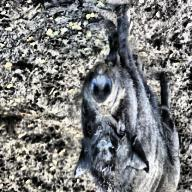boar: (74, 4, 180, 192)
